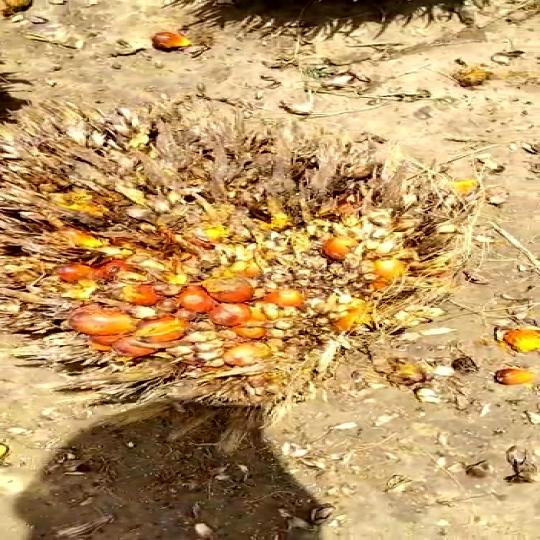terlalu masak: (0, 95, 472, 418)
